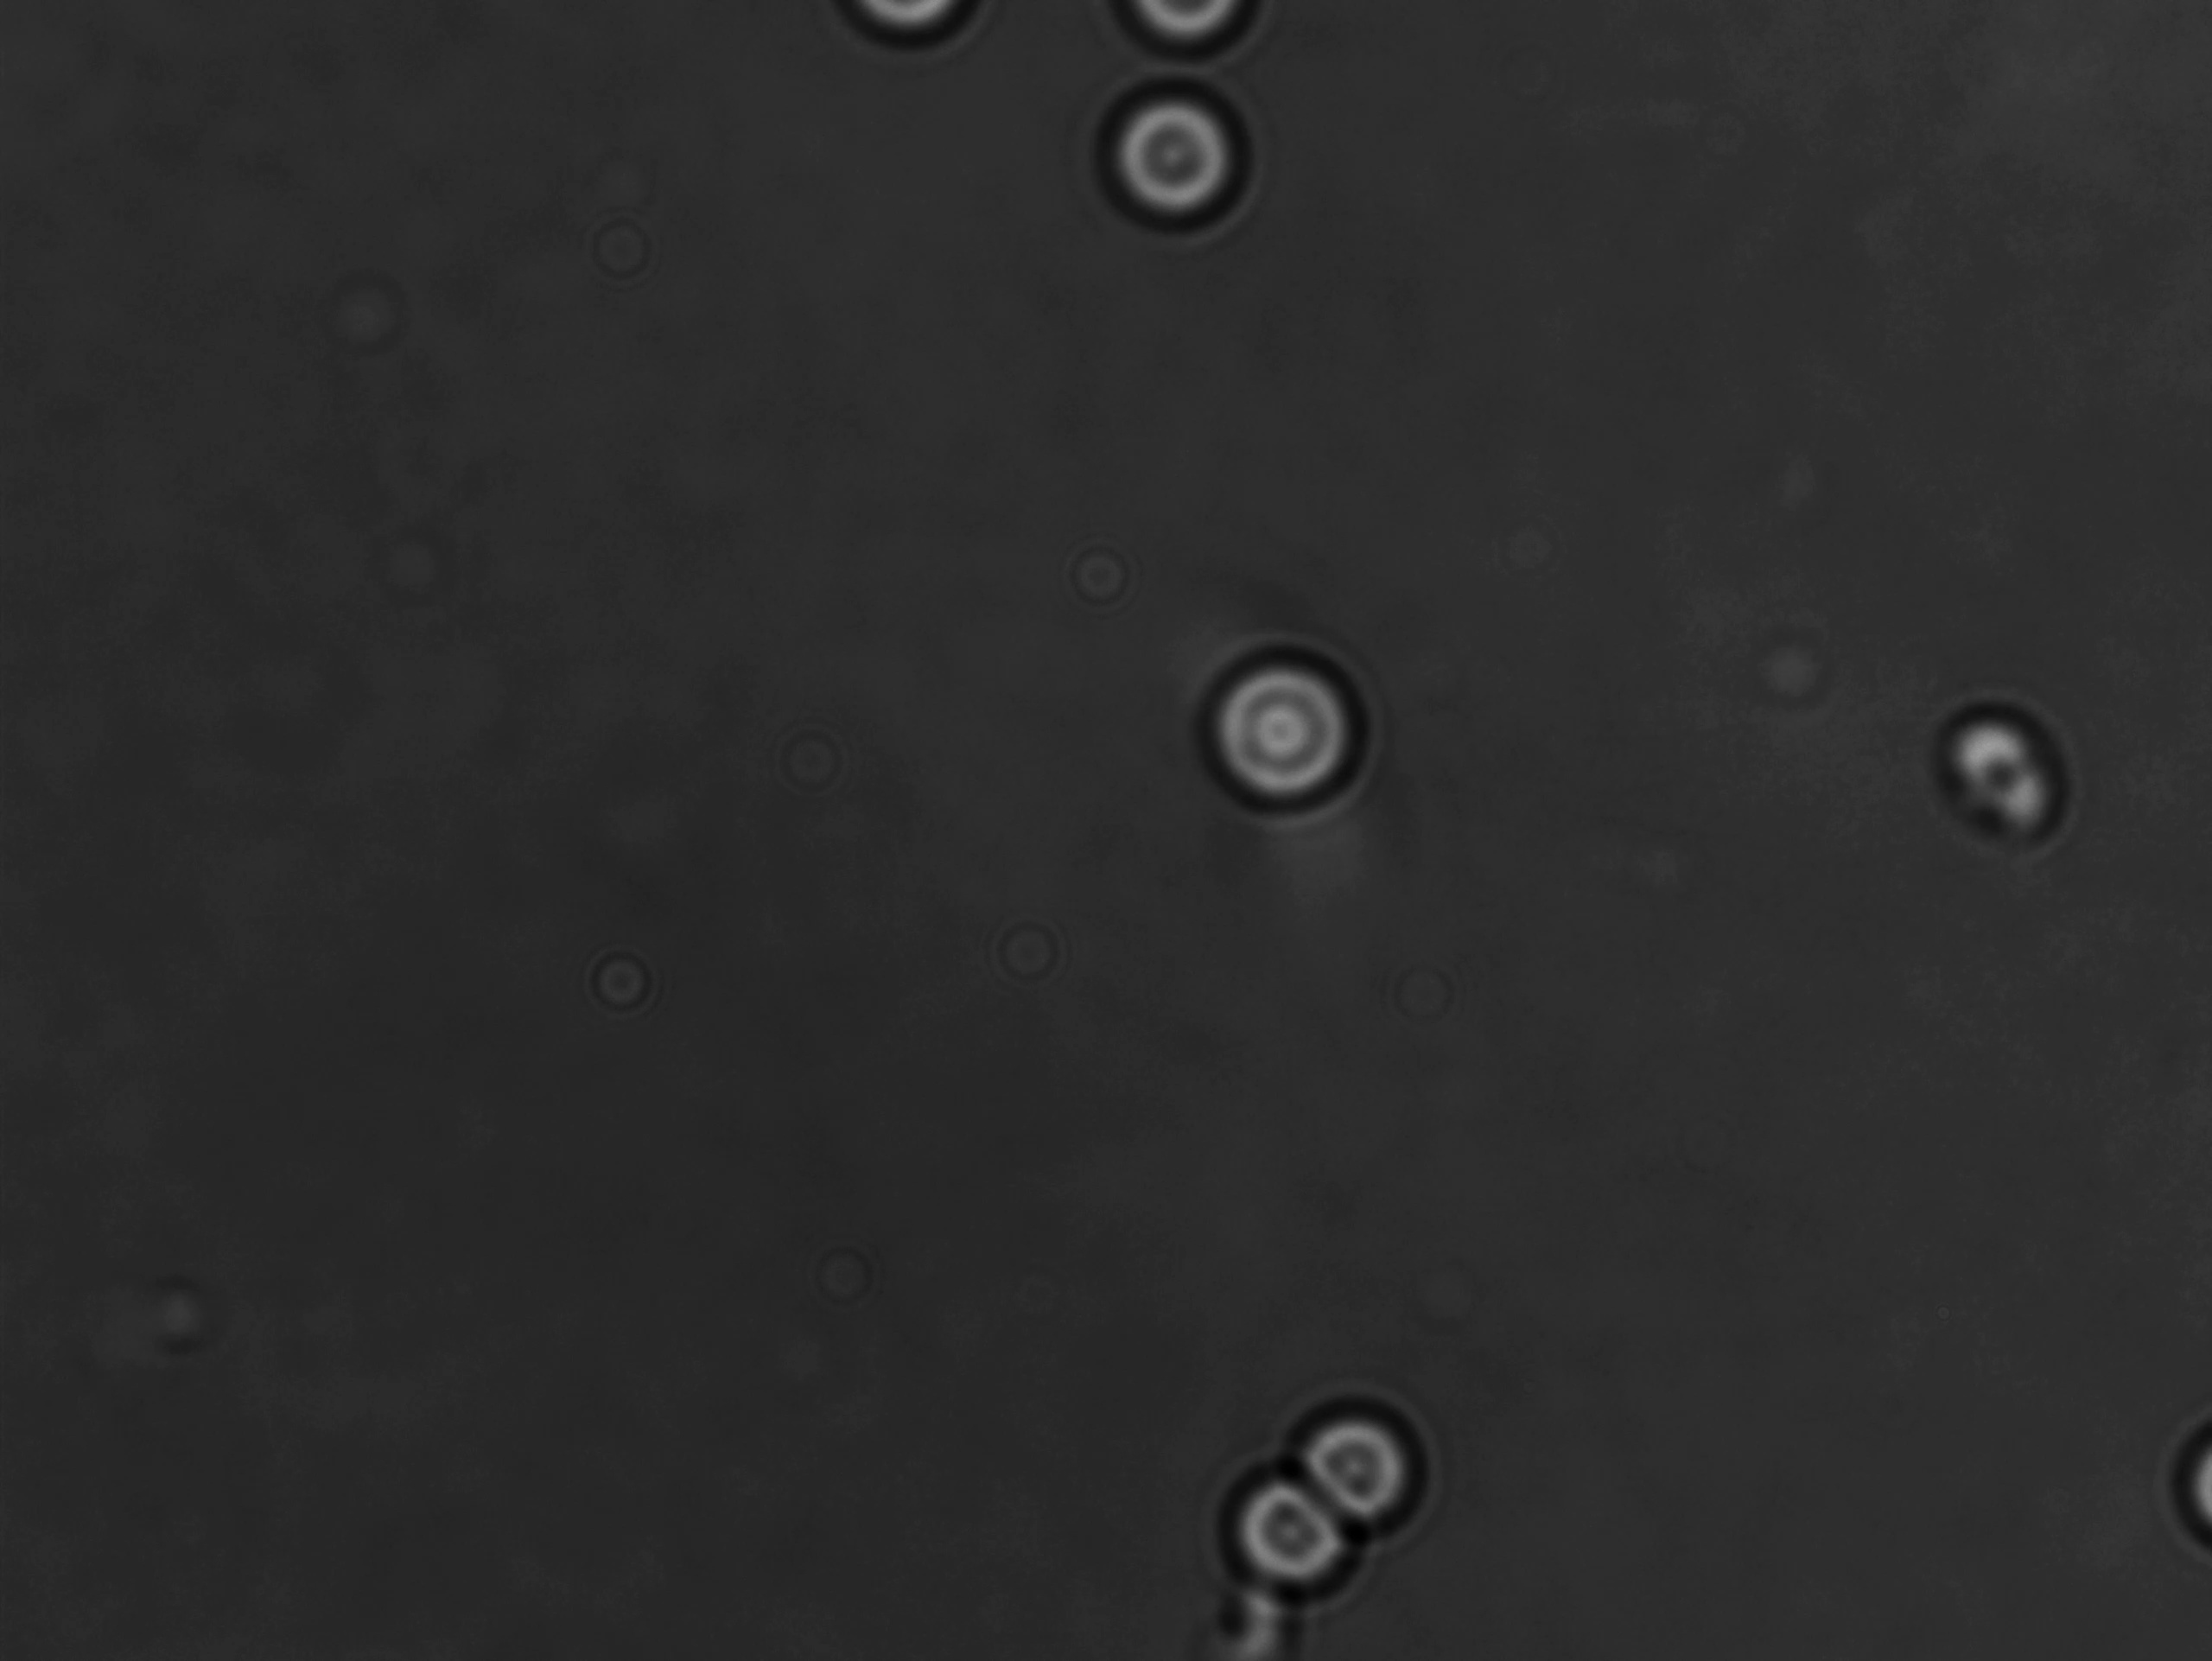depth:40: (1191, 646, 1394, 836), (1085, 82, 1265, 255)
